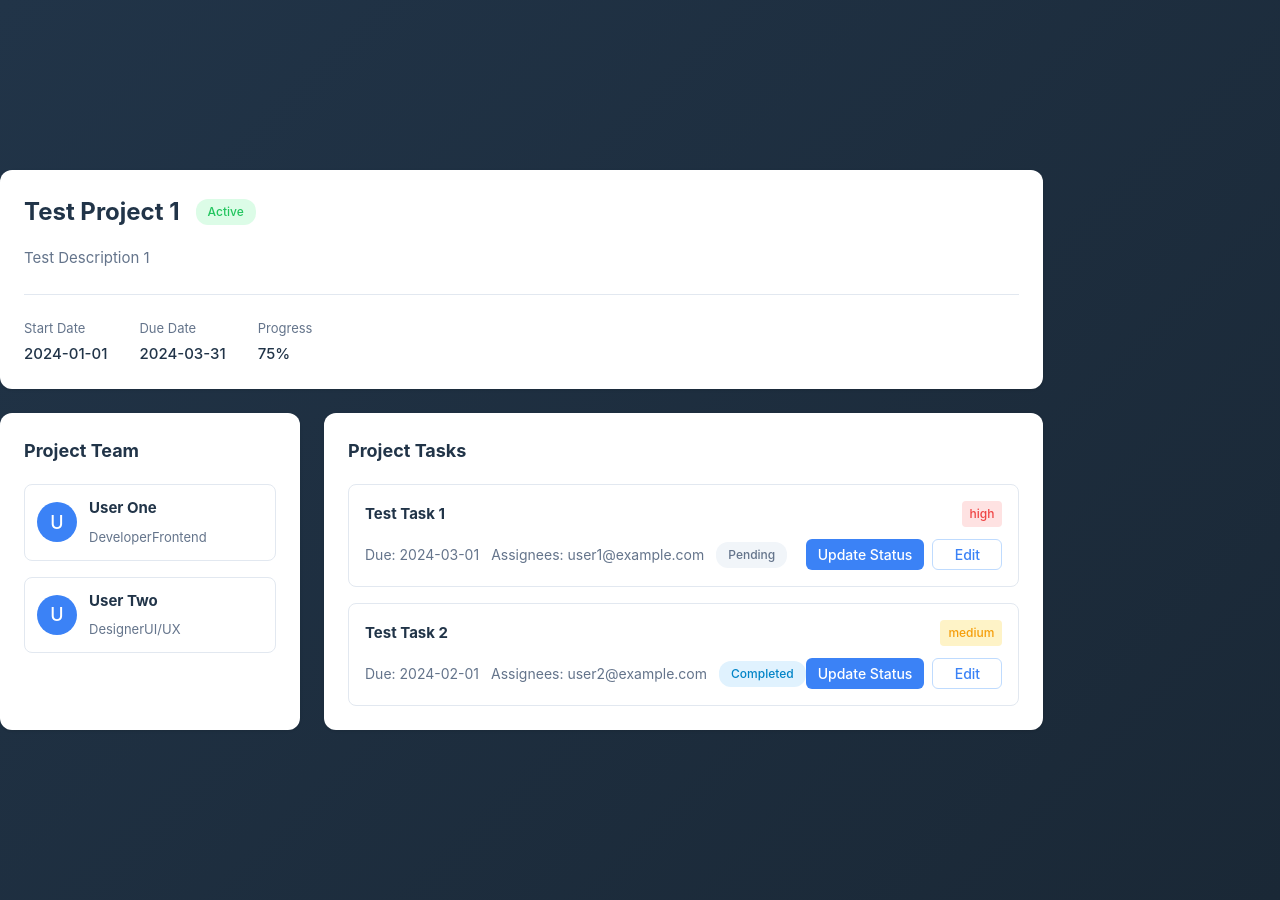
it: ProjectDetails Component › opens update status modal when update status is clicked
Click the button "Update Status" next to "pending".
click(865, 554)  # box x1=806 y1=539 x2=924 y2=570
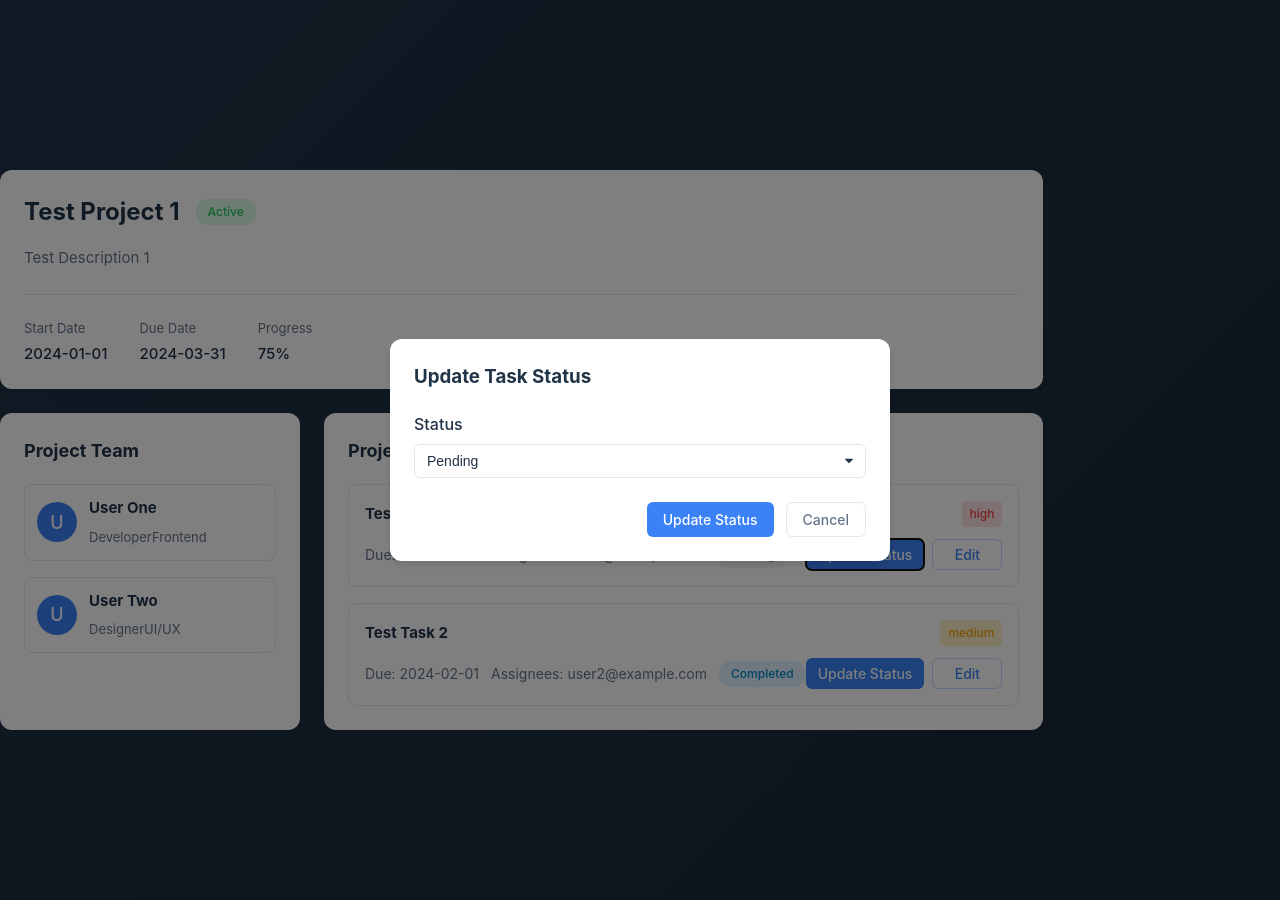
Expected: the heading "Update Task Status" is shown, x1=414 y1=366 x2=591 y2=388
Expected: the dropdown is shown, x1=414 y1=444 x2=866 y2=478
